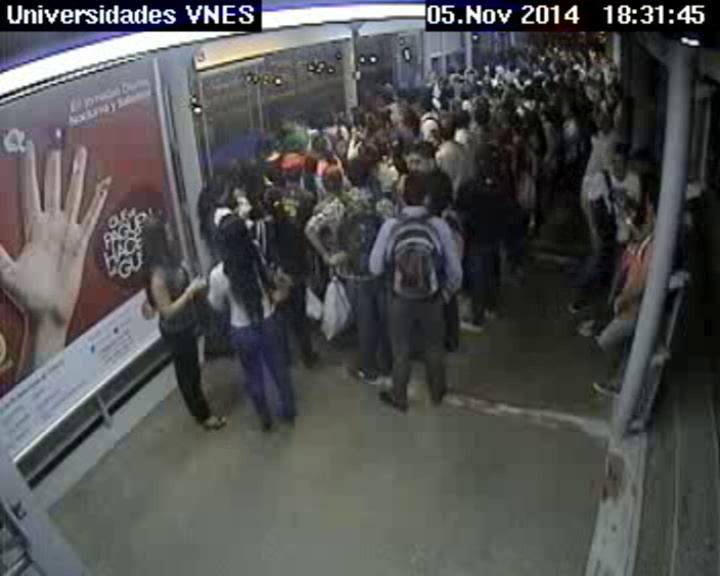person: (139, 215, 177, 255), (212, 214, 250, 252), (396, 176, 432, 213), (640, 187, 669, 226), (343, 158, 376, 190), (276, 156, 305, 186), (203, 175, 231, 205), (406, 146, 433, 176), (630, 147, 656, 176), (316, 164, 343, 190), (608, 149, 631, 175), (277, 110, 301, 134), (475, 153, 497, 177), (227, 158, 248, 179), (266, 190, 286, 209), (363, 111, 381, 130), (309, 136, 328, 154), (242, 190, 261, 208), (255, 173, 273, 191), (262, 133, 279, 152), (373, 135, 391, 152), (453, 110, 470, 127), (473, 109, 490, 125), (324, 108, 340, 125), (350, 113, 366, 130), (403, 108, 419, 124), (527, 131, 543, 147), (425, 120, 440, 135), (495, 132, 509, 147), (513, 139, 527, 154), (479, 127, 493, 141), (553, 60, 566, 74), (599, 116, 612, 130), (380, 80, 393, 94), (561, 105, 574, 118), (596, 99, 609, 112), (475, 97, 489, 109), (523, 86, 536, 98), (438, 128, 451, 140), (588, 47, 599, 58), (538, 111, 548, 122), (569, 69, 579, 79), (609, 68, 619, 78), (507, 83, 517, 93), (505, 97, 515, 107), (482, 80, 492, 90), (490, 90, 500, 100), (590, 64, 599, 74), (595, 71, 605, 80), (578, 88, 587, 98), (557, 77, 567, 86), (482, 63, 491, 73), (530, 61, 539, 70), (537, 77, 546, 86), (595, 90, 604, 99), (460, 92, 469, 101), (424, 104, 433, 113), (520, 72, 529, 81), (447, 66, 455, 75), (507, 48, 516, 56), (575, 50, 583, 58), (509, 64, 517, 72), (517, 55, 525, 63), (545, 48, 553, 55), (601, 56, 608, 64), (443, 80, 451, 87), (438, 78, 445, 86), (493, 65, 501, 72), (496, 81, 503, 88), (468, 72, 475, 79), (570, 56, 577, 62), (539, 49, 545, 56), (553, 47, 559, 53), (567, 50, 572, 56)
